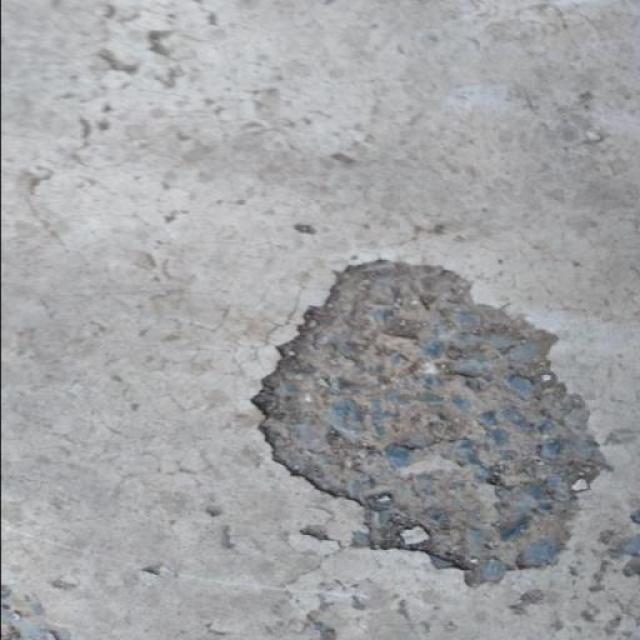D10: (258, 262, 604, 584)
